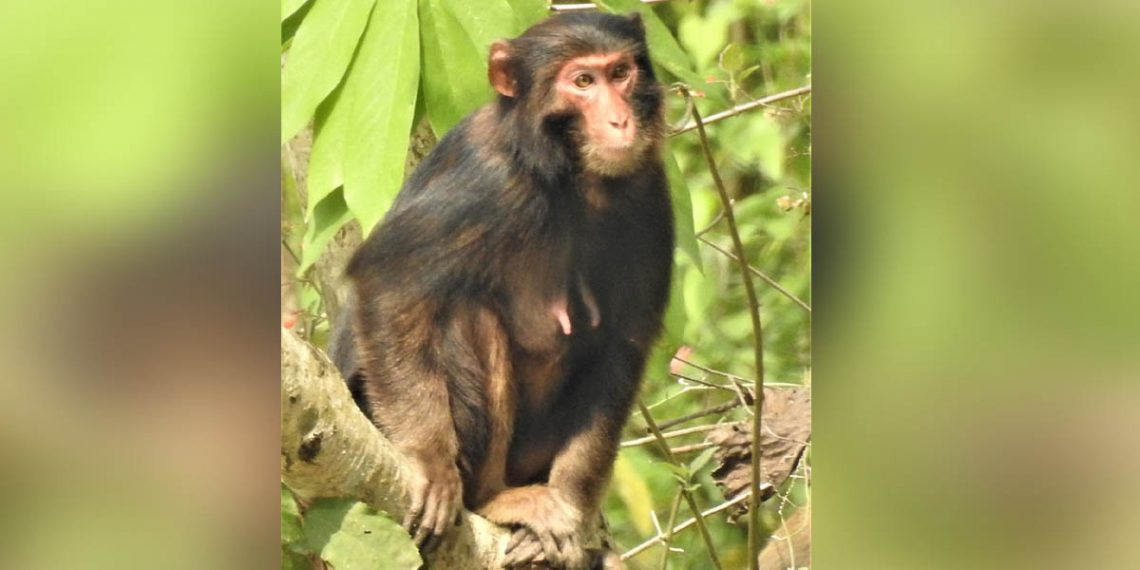monkey: (341, 7, 712, 543)
